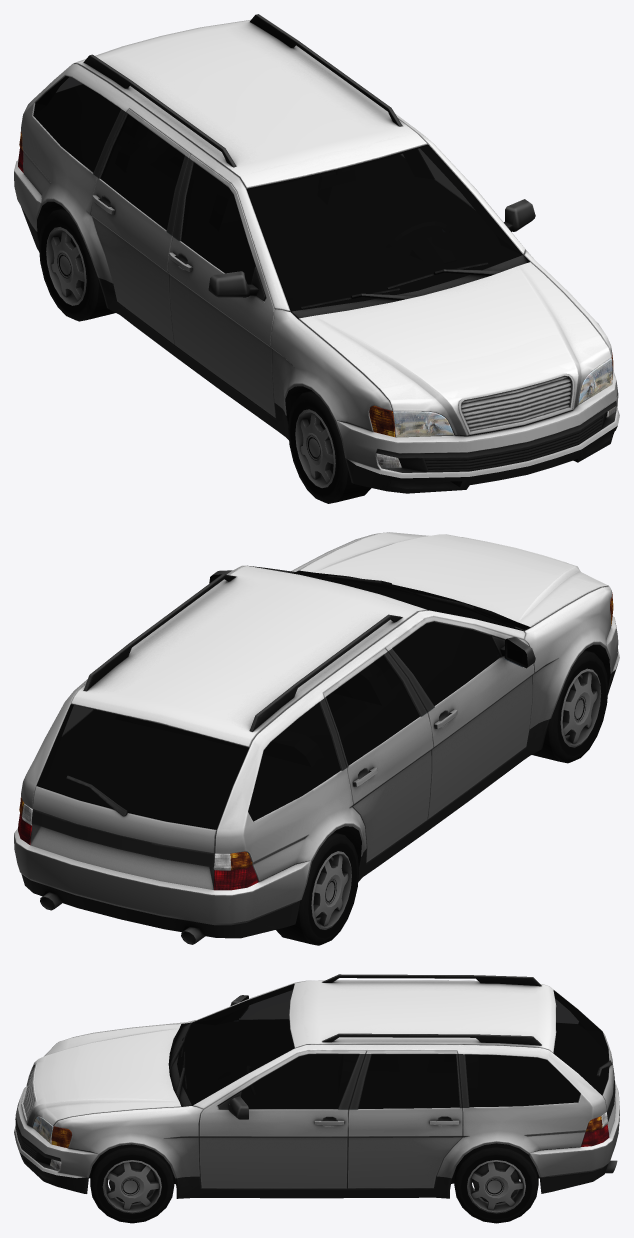
The model's file is wagon.glb.
3 renders of one model, top to bottom at view 1: azimuth 30°, elevation 25°; view 2: azimuth 150°, elevation 25°; view 3: azimuth 270°, elevation 25°, orthographic. The views are drawn at different scales.
Parts seen in each view (by area): view 1: Wagon Body_Body_0, Wagon Body_Glass_0, Door skin and glass (×3), TyreRim (×2), Lamp head; view 2: Wagon Body_Body_0, Wagon Body_Glass_0, Door skin and glass (×2), TyreRim (×2), Lamp brake; view 3: Wagon Body_Body_0, Door skin and glass (×4), Wagon Body_Glass_0, TyreRim (×2), Lamp head, Lamp brake.
Part boxes in pixels (<box>): Wagon Body_Body_0: <box>14,14,619,493</box>; Wagon Body_Glass_0: <box>33,76,522,311</box>; Door skin and glass (×3): <box>165,149,535,420</box>; TyreRim (×2): <box>39,208,371,503</box>; Lamp head: <box>369,352,617,468</box>; Wagon Body_Body_0: <box>14,532,619,944</box>; Wagon Body_Glass_0: <box>36,565,522,829</box>; Door skin and glass (×2): <box>377,621,540,818</box>; TyreRim (×2): <box>276,650,608,945</box>; Lamp brake: <box>18,797,258,890</box>; Wagon Body_Body_0: <box>14,974,619,1198</box>; Door skin and glass (×4): <box>189,990,358,1186</box>; Wagon Body_Glass_0: <box>177,983,609,1108</box>; TyreRim (×2): <box>90,1143,538,1223</box>; Lamp head: <box>32,1116,71,1170</box>; Lamp brake: <box>581,1112,609,1146</box>.
Size of the model in its own units: 2.09 by 1.48 by 4.7.
6 materials, 4 textured.
